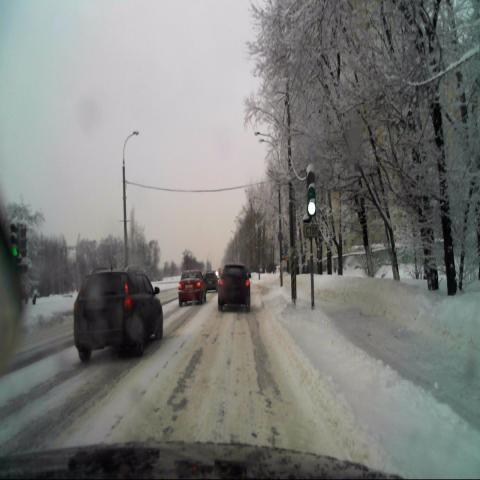6_16: (303, 222, 319, 240)
